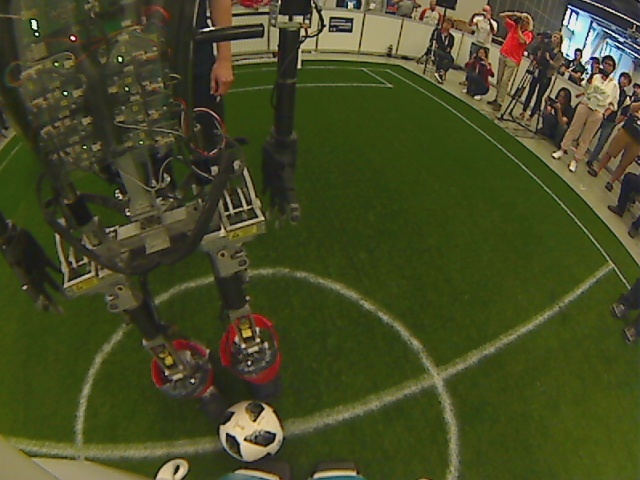ball: (214, 397, 288, 466)
